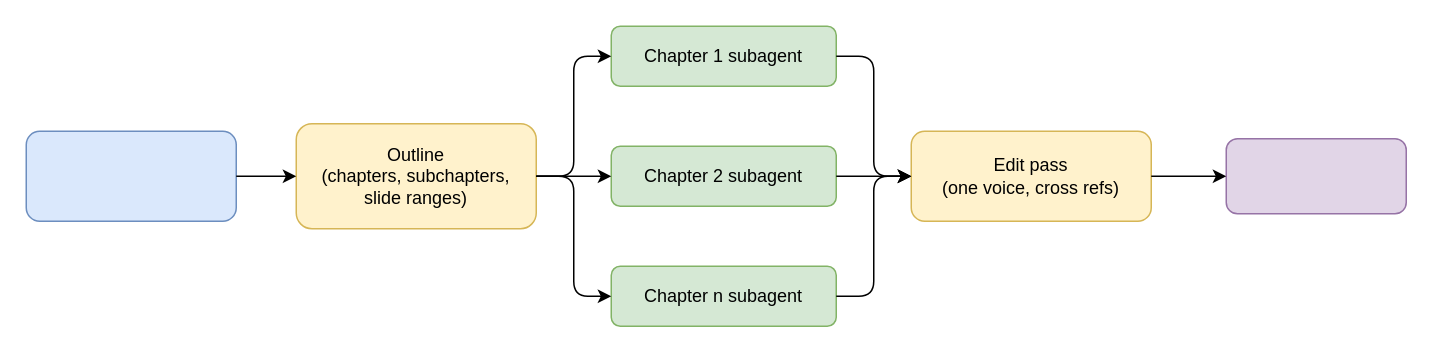
Some shapes in this 1433 by 353 pixel diagram are drawn without their labels. Each missing label, with the box of its shape:
article.md: (1225, 137, 1406, 214)
transcript.md + slide notes: (25, 130, 236, 221)
